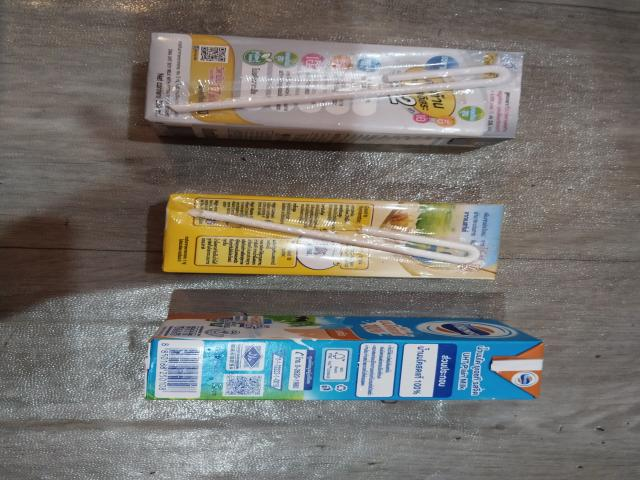drink_box: (130, 27, 520, 152), (140, 313, 557, 412), (147, 190, 523, 282)
